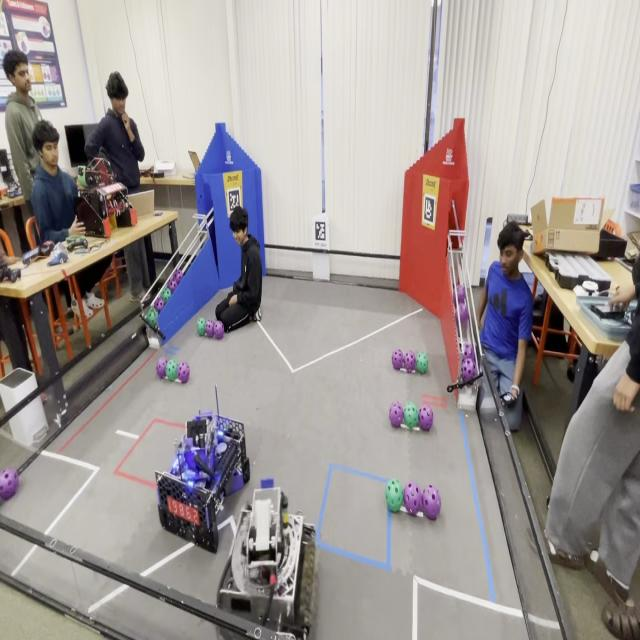artifact_green: (386, 480, 403, 511), (404, 402, 418, 428), (416, 352, 428, 374), (166, 360, 178, 381), (147, 307, 157, 327), (197, 318, 206, 336), (161, 288, 171, 303), (78, 171, 86, 188)
artifact_purple: (422, 485, 442, 520), (0, 469, 18, 500), (404, 483, 421, 514), (418, 405, 433, 431), (389, 402, 403, 427), (462, 358, 476, 382), (404, 351, 416, 371), (178, 362, 189, 383), (156, 357, 167, 378), (392, 350, 403, 369), (213, 321, 224, 339), (459, 304, 468, 324), (463, 343, 474, 359), (173, 269, 183, 286), (154, 297, 164, 313), (205, 320, 214, 337), (167, 278, 177, 293), (457, 285, 465, 303)
